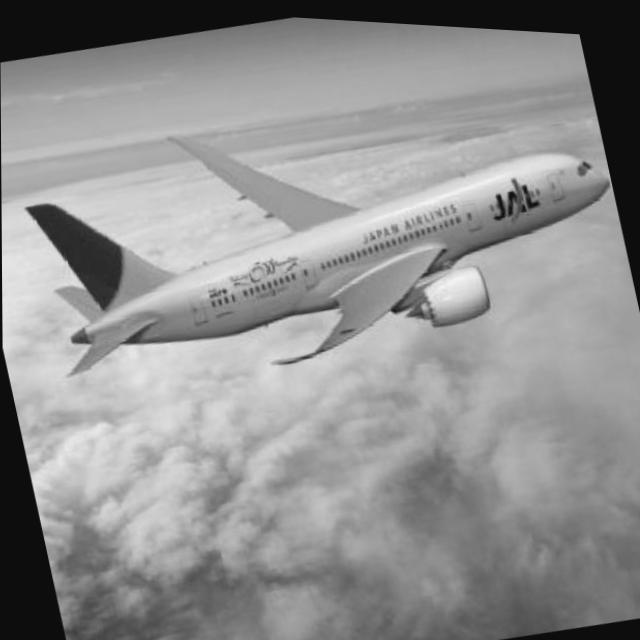aeroplane: (6, 36, 636, 418)
